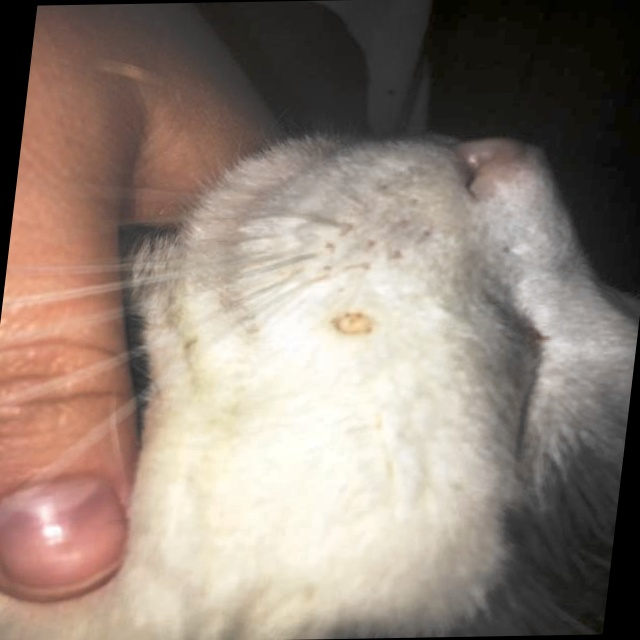lump_and_bump: (333, 314, 375, 337)
